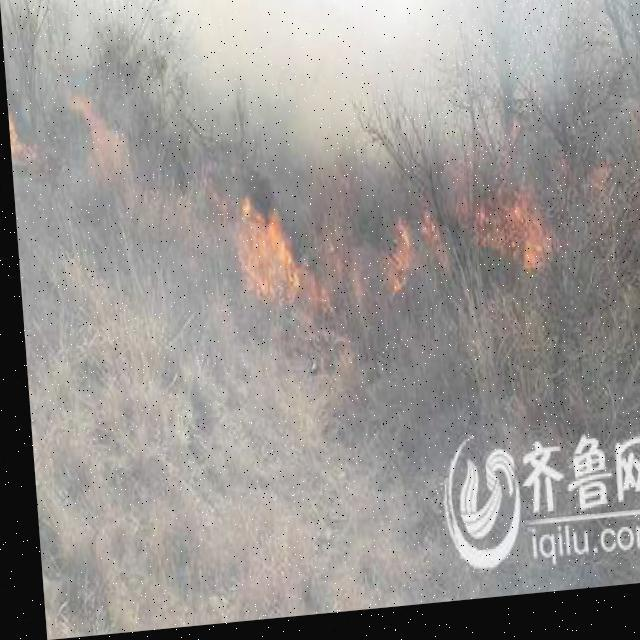Fire: (230, 186, 327, 325), (449, 155, 551, 283), (375, 214, 449, 300), (70, 85, 124, 175)
